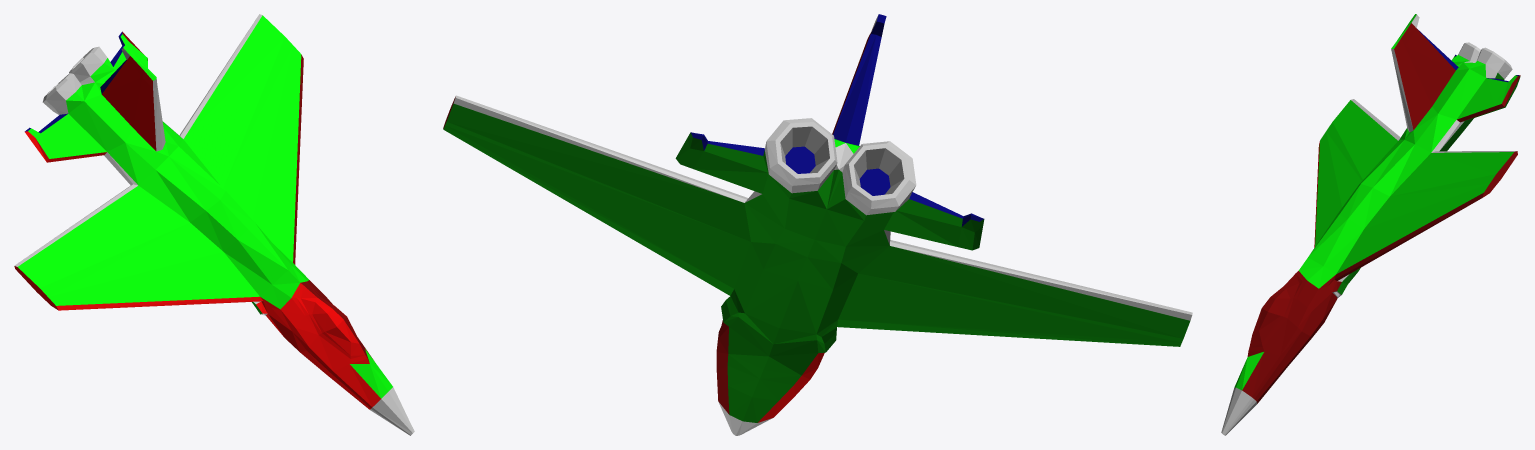
File: jet.obj
The picture shows the model from 3 angles, left to right: view 1: azimuth 30°, elevation 25°; view 2: azimuth 150°, elevation 25°; view 3: azimuth 270°, elevation 25°; orthographic projection. The views are drawn at different scales.
Parts seen in each view (by area): view 1: Jet; view 2: Jet; view 3: Jet.
Boxes of the visible parts, bbox=[...] form: Jet: bbox=[14, 14, 414, 435]; Jet: bbox=[443, 14, 1192, 435]; Jet: bbox=[1221, 14, 1520, 435].
Size of the model in its own units: 11.45 by 10.99 by 8.84.
